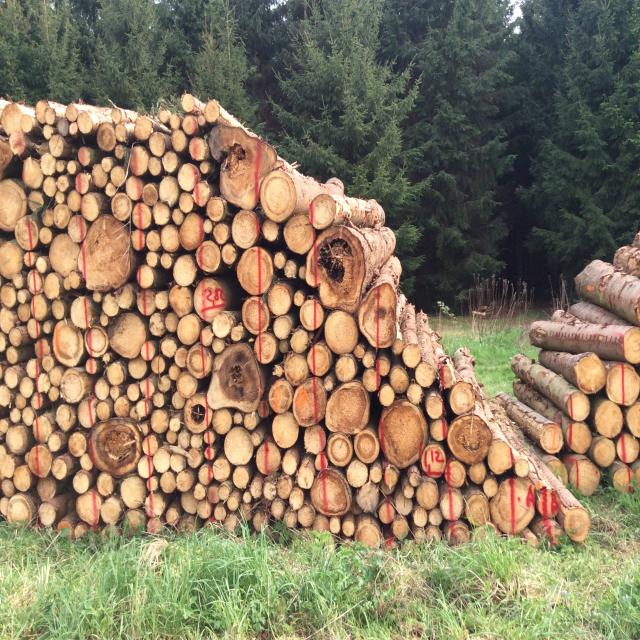wood-log: (310, 230, 372, 313), (80, 216, 135, 294), (208, 342, 264, 414), (378, 402, 423, 470), (88, 417, 138, 477), (489, 476, 536, 535), (220, 152, 262, 212), (444, 416, 491, 462), (326, 385, 369, 435), (310, 468, 350, 516), (108, 312, 147, 360), (234, 247, 272, 296), (262, 176, 296, 222), (52, 321, 84, 368), (326, 312, 360, 355), (0, 178, 26, 230), (285, 214, 317, 256), (50, 232, 82, 274), (576, 352, 606, 392), (224, 428, 255, 466), (594, 399, 624, 437), (232, 210, 261, 248), (271, 412, 300, 449), (561, 506, 589, 543), (178, 213, 204, 252), (354, 515, 381, 552), (574, 458, 601, 495), (0, 240, 24, 281), (13, 214, 38, 252), (619, 362, 640, 406), (606, 363, 628, 404), (258, 440, 283, 476), (292, 388, 315, 427), (28, 444, 54, 478), (420, 443, 446, 477), (488, 440, 512, 476), (122, 475, 148, 508), (78, 488, 101, 525), (196, 239, 221, 273), (313, 195, 337, 230), (173, 255, 199, 287), (5, 424, 31, 456), (309, 342, 332, 378), (450, 382, 475, 415), (442, 520, 471, 548), (267, 284, 292, 316), (169, 284, 194, 316), (356, 481, 380, 514), (62, 370, 86, 403), (305, 424, 329, 456), (242, 296, 262, 334), (257, 332, 279, 366), (86, 327, 110, 358), (177, 313, 200, 345), (617, 432, 640, 464), (23, 158, 45, 190), (571, 421, 593, 453), (302, 298, 324, 330), (82, 191, 106, 220), (593, 438, 615, 469), (330, 436, 352, 467), (418, 478, 440, 509), (129, 146, 151, 177), (100, 495, 123, 524), (145, 488, 167, 518), (356, 433, 377, 464), (623, 328, 640, 366), (177, 163, 200, 191), (569, 392, 590, 422), (159, 175, 180, 205), (336, 354, 359, 381), (175, 373, 198, 400), (111, 193, 132, 222), (612, 460, 631, 492), (206, 197, 228, 224), (347, 460, 368, 488), (56, 404, 77, 432), (78, 397, 96, 429), (445, 460, 467, 486), (212, 408, 234, 434), (0, 137, 13, 179), (0, 445, 16, 479), (416, 361, 436, 388), (390, 367, 410, 394), (68, 431, 88, 458), (106, 359, 126, 386), (162, 224, 180, 254), (626, 400, 640, 437), (42, 271, 61, 298), (98, 124, 116, 152), (134, 117, 154, 142), (14, 465, 33, 491), (282, 449, 301, 475), (36, 478, 56, 502), (37, 501, 57, 525), (290, 328, 310, 352), (212, 456, 232, 480), (0, 306, 17, 334), (298, 464, 315, 491), (147, 132, 166, 156), (130, 354, 149, 378), (299, 503, 318, 527), (154, 200, 172, 225), (378, 500, 396, 525), (403, 344, 423, 366), (233, 467, 252, 490), (274, 315, 293, 338), (98, 473, 116, 497), (54, 454, 72, 478), (128, 176, 146, 200), (192, 180, 210, 204), (362, 369, 380, 392), (110, 165, 128, 188), (178, 469, 195, 493), (392, 517, 409, 541), (166, 502, 183, 526), (427, 393, 442, 420), (74, 472, 92, 494), (164, 152, 182, 174), (378, 383, 396, 405), (163, 336, 181, 358), (188, 138, 205, 161), (469, 460, 485, 484), (171, 130, 188, 152), (288, 488, 305, 510), (0, 382, 13, 410), (222, 242, 237, 266), (264, 220, 280, 242), (114, 396, 130, 418), (342, 514, 356, 539), (407, 384, 424, 404), (148, 154, 162, 178), (86, 357, 104, 375), (182, 489, 196, 512), (198, 500, 214, 520), (50, 431, 65, 452), (483, 478, 498, 499), (631, 459, 640, 494), (162, 472, 176, 494), (78, 148, 92, 169), (128, 382, 143, 401), (415, 358, 432, 374), (0, 479, 14, 497)
